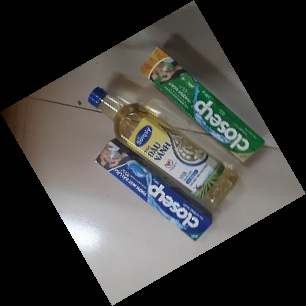CloseUp Tuyet: (93, 139, 215, 243)
CloseUp Xanh: (137, 46, 265, 165)
Simply: (86, 87, 238, 209)
